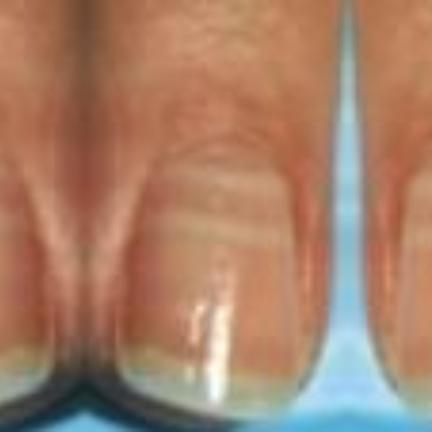Nail: (118, 137, 304, 419), (0, 153, 50, 403), (392, 146, 432, 418)
